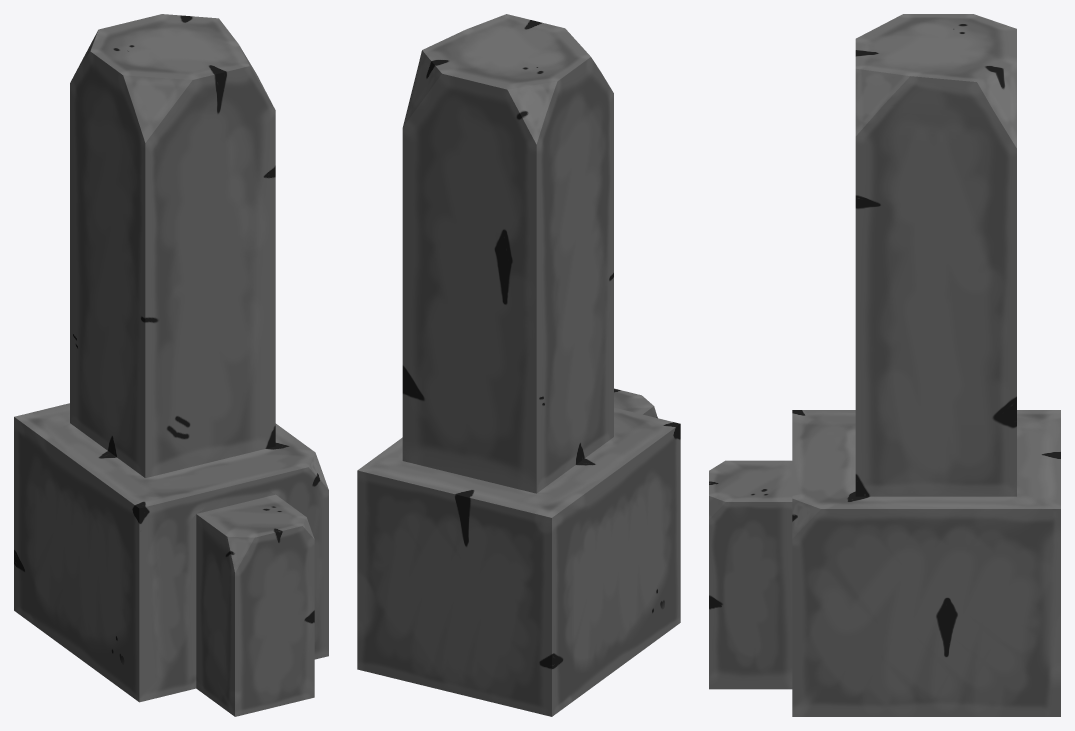
The model's file is piedra3mesh.fbx.
The picture shows the model from 3 angles, left to right: view 1: azimuth 30°, elevation 25°; view 2: azimuth 150°, elevation 25°; view 3: azimuth 270°, elevation 25°; orthographic projection. The views are drawn at different scales.
Parts seen in each view (by area): view 1: Piedra3; view 2: Piedra3; view 3: Piedra3.
Boxes of the visible parts, x1=… form: Piedra3: x1=14, y1=14, x2=328, y2=716; Piedra3: x1=357, y1=14, x2=680, y2=716; Piedra3: x1=709, y1=14, x2=1060, y2=716.
Size of the model in its own units: 796 by 2330 by 1194.
